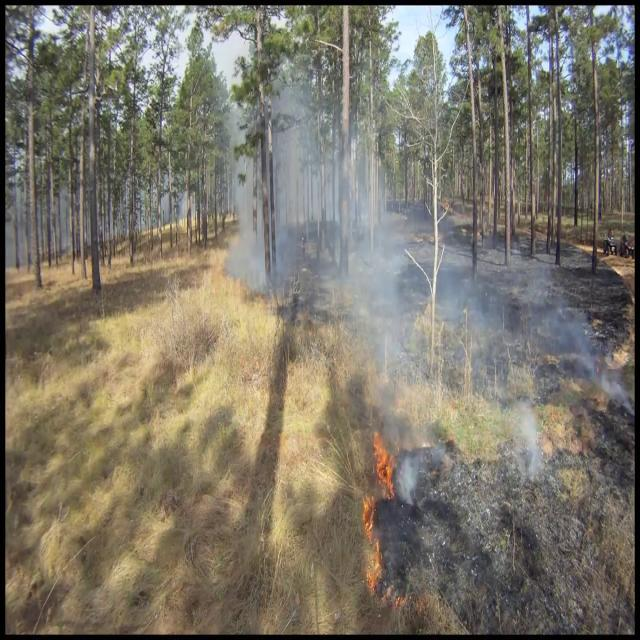Fire: (360, 418, 398, 594)
Smoke: (342, 206, 596, 462), (228, 80, 412, 308)
